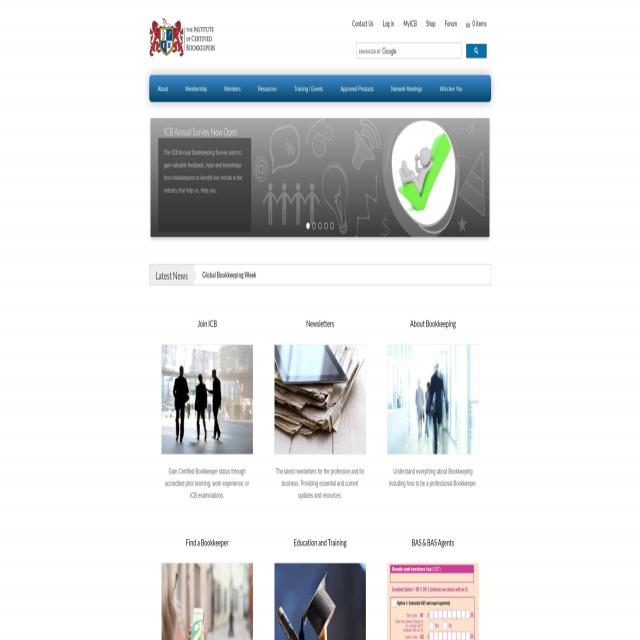button: (274, 344, 366, 454), (162, 344, 252, 454), (388, 344, 478, 454), (274, 561, 366, 640), (385, 563, 478, 640), (162, 563, 253, 640), (149, 18, 215, 57), (332, 75, 382, 102), (383, 75, 431, 102), (286, 75, 332, 102), (431, 75, 471, 102), (177, 75, 216, 102), (249, 75, 285, 102), (216, 75, 249, 102), (149, 75, 177, 102), (466, 42, 486, 59), (312, 222, 316, 230), (324, 222, 328, 230), (318, 222, 322, 230), (330, 222, 334, 230), (306, 222, 310, 230)
field: (356, 43, 461, 59)
